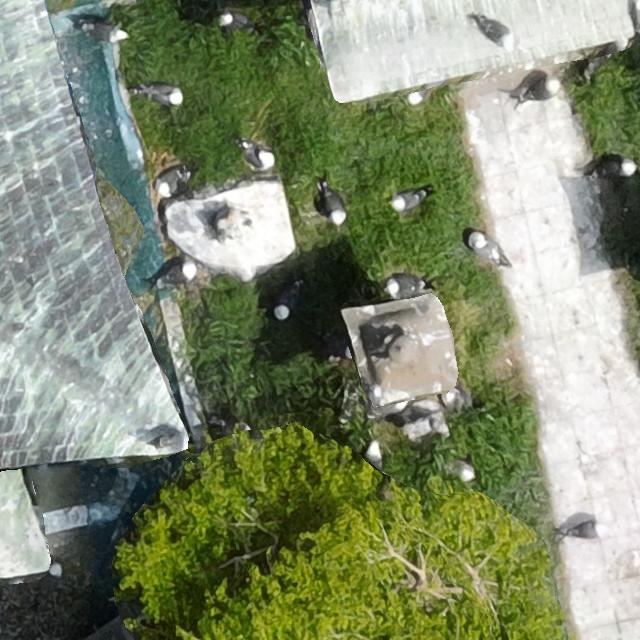umineko: (478, 18, 508, 44), (154, 432, 191, 452), (524, 79, 559, 100), (471, 234, 499, 260), (84, 23, 126, 40), (274, 287, 296, 319), (324, 189, 345, 222), (242, 143, 267, 169), (144, 86, 180, 104), (388, 276, 422, 295), (157, 168, 181, 194), (159, 265, 193, 283), (569, 521, 602, 537), (450, 461, 475, 482), (600, 160, 630, 177), (366, 441, 383, 469), (394, 191, 420, 209), (223, 12, 250, 28), (408, 88, 431, 104)
